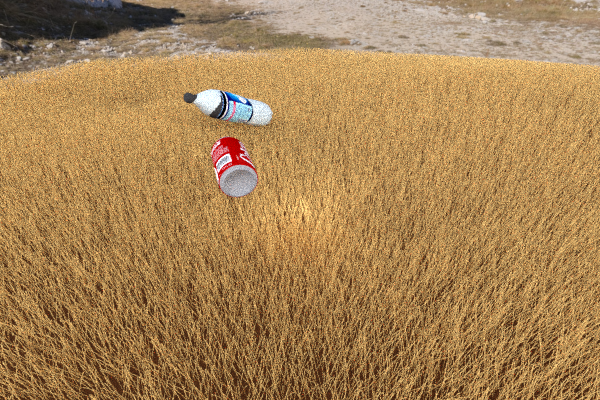Plastic Bottle: (183, 89, 272, 126), (210, 136, 258, 197), (531, 102, 600, 141)
